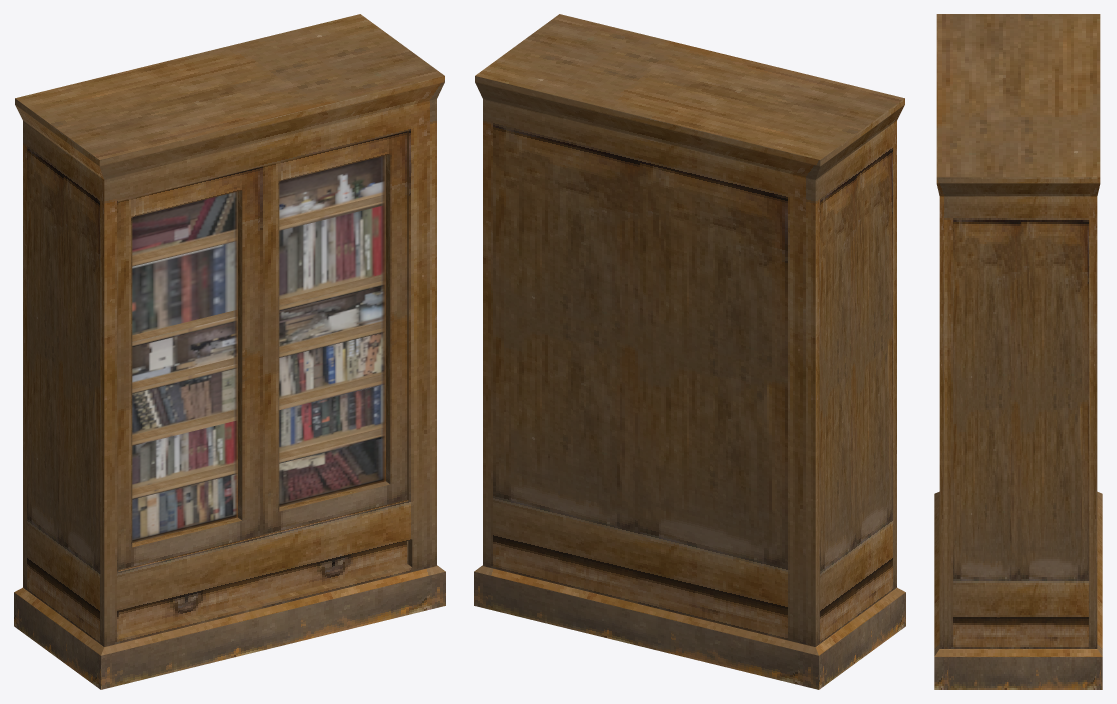
Rendered from Bookshelf.glb.
3 views of the same model, side by side, from view 1: azimuth 30°, elevation 25°; view 2: azimuth 150°, elevation 25°; view 3: azimuth 270°, elevation 25° (orthographic). The views are drawn at different scales.
Parts seen in each view (by area): view 1: servant_1.001; view 2: servant_1.001; view 3: servant_1.001.
Part boxes in pixels (x1,y1,x2,y2): servant_1.001: (14, 14, 445, 689); servant_1.001: (474, 14, 905, 689); servant_1.001: (934, 14, 1102, 689).
Size of the model in its own units: 1.36 by 2 by 0.5943.
3 materials, 3 textured.
